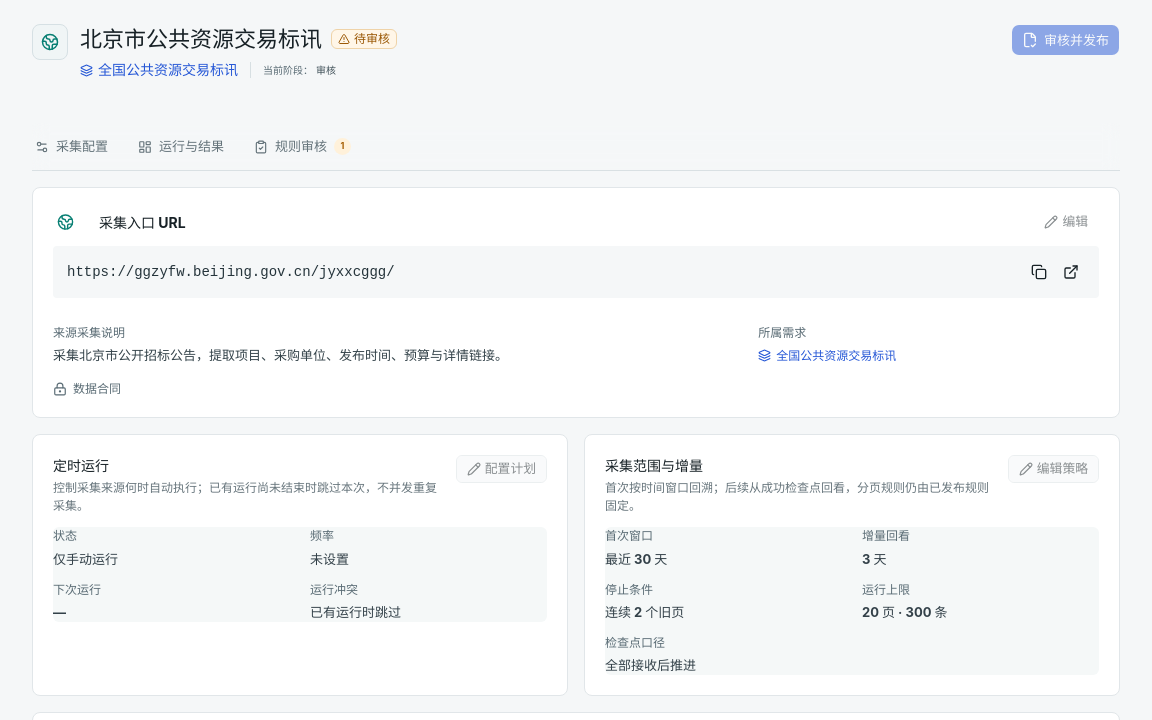
Test: reports clipboard failure without claiming success
The image size is (1152, 720).
What coordinates should you click on to do the following:
click the button named "复制采集入口 URL"
I would click on:
 (1039, 272)
Its box is [1025,258,1053,286].
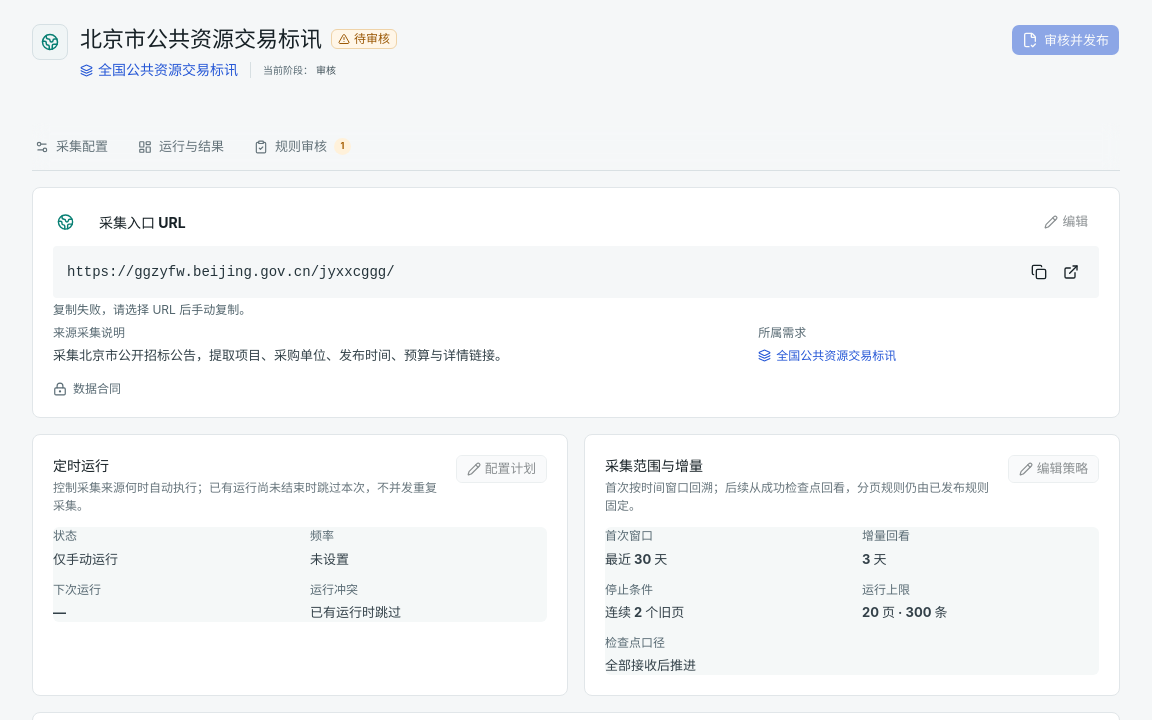
Expected: the message does not show "URL 已复制", [53,302,251,317]
Now the message shows "复制失败", box [53,302,251,317]
